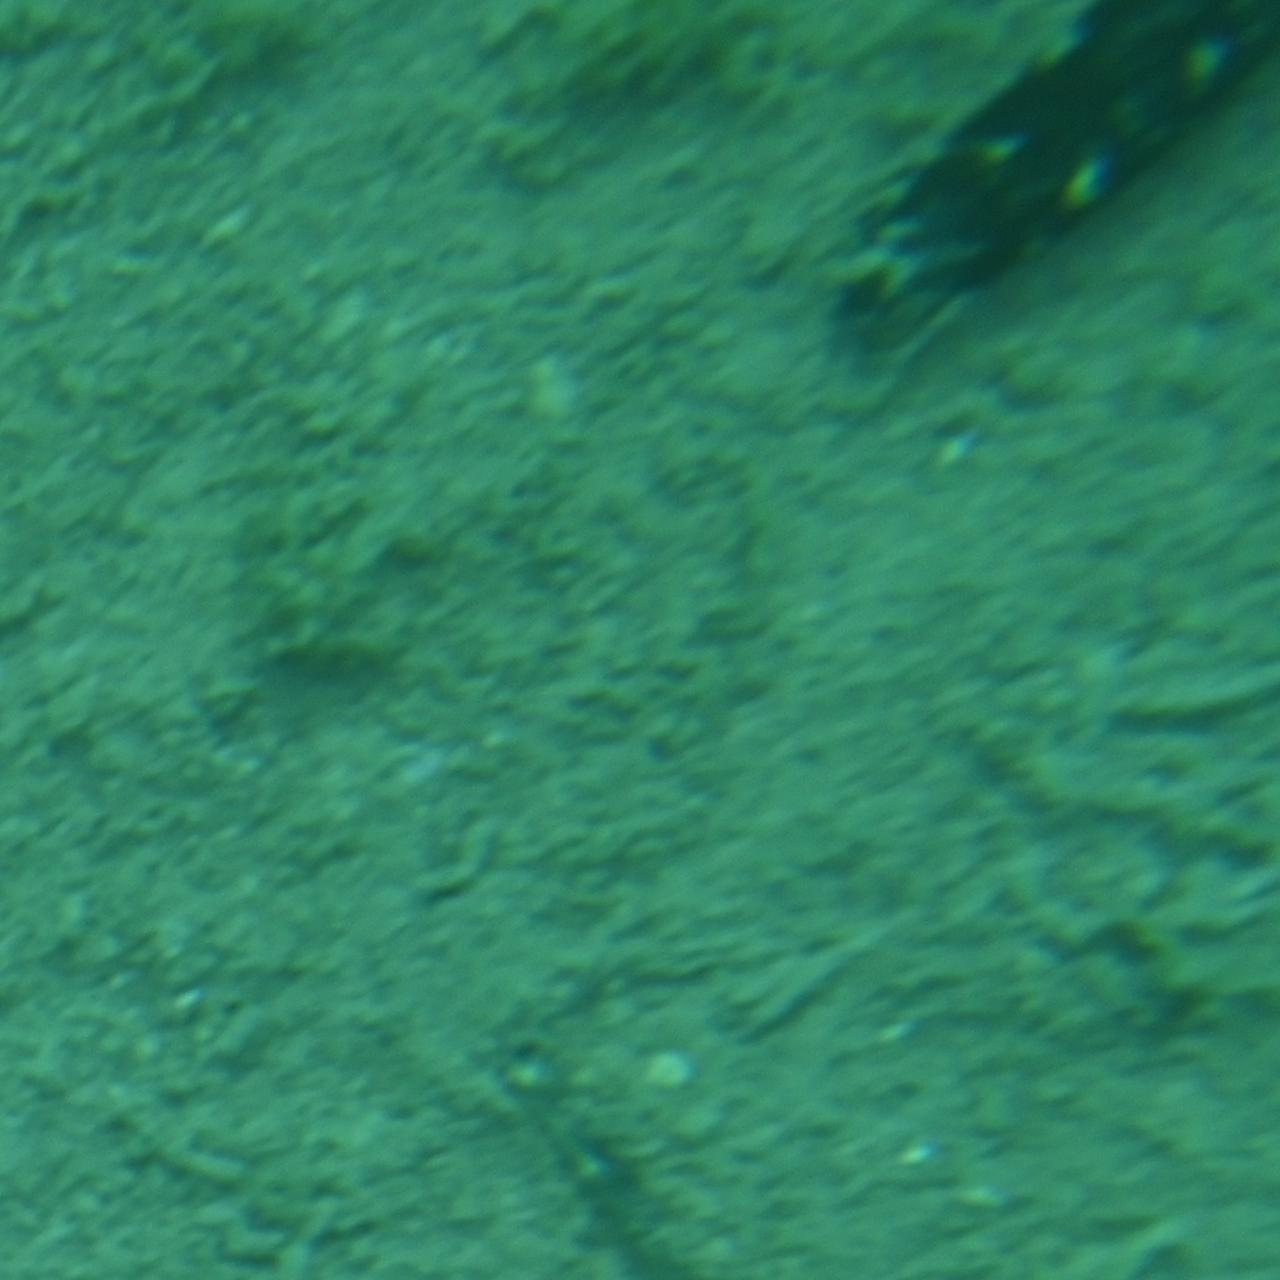Holothuria tubulosa: (835, 0, 1279, 414)
